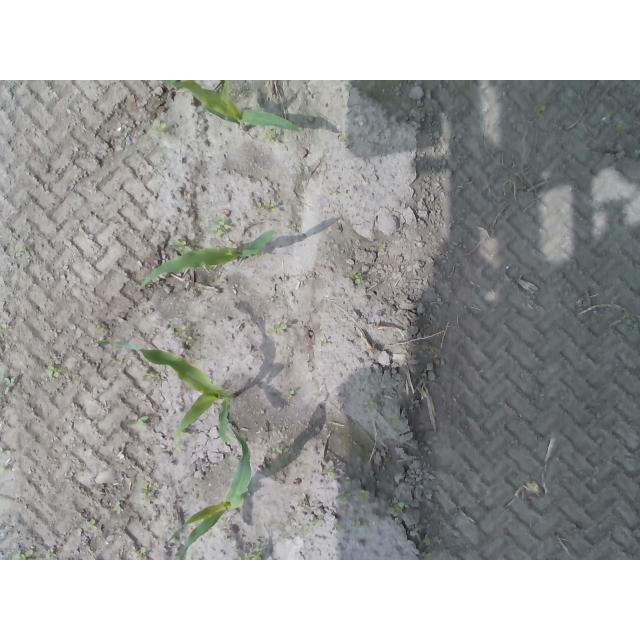Maize: (103, 341, 236, 446), (168, 422, 253, 560), (138, 228, 275, 292), (170, 80, 298, 134)
Weeds: (338, 489, 370, 504), (210, 218, 231, 238), (266, 319, 287, 337), (255, 199, 281, 213), (175, 326, 194, 344), (388, 497, 405, 514), (532, 103, 547, 121), (173, 237, 192, 251), (2, 377, 15, 397), (13, 548, 34, 560), (241, 549, 263, 560), (145, 483, 156, 505), (47, 366, 66, 378), (132, 416, 149, 429), (142, 371, 162, 382), (151, 119, 165, 134), (133, 545, 147, 560), (260, 130, 276, 143), (86, 518, 99, 531), (282, 390, 296, 402), (352, 271, 363, 285), (115, 502, 126, 514), (270, 447, 282, 458), (118, 270, 128, 282), (319, 338, 330, 348), (424, 534, 433, 546)
